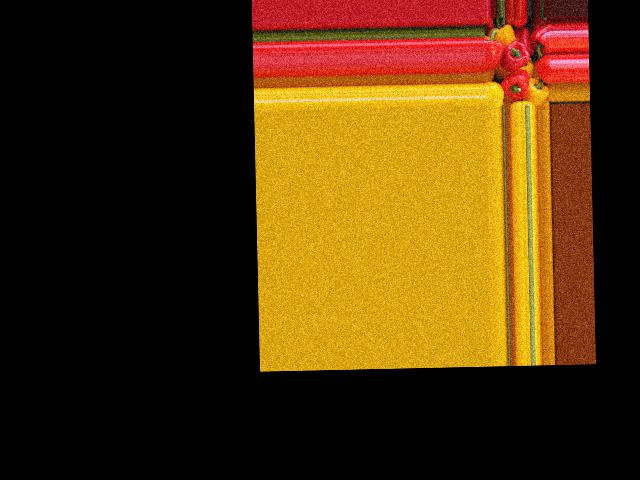bell_pepper: (524, 80, 547, 105)
